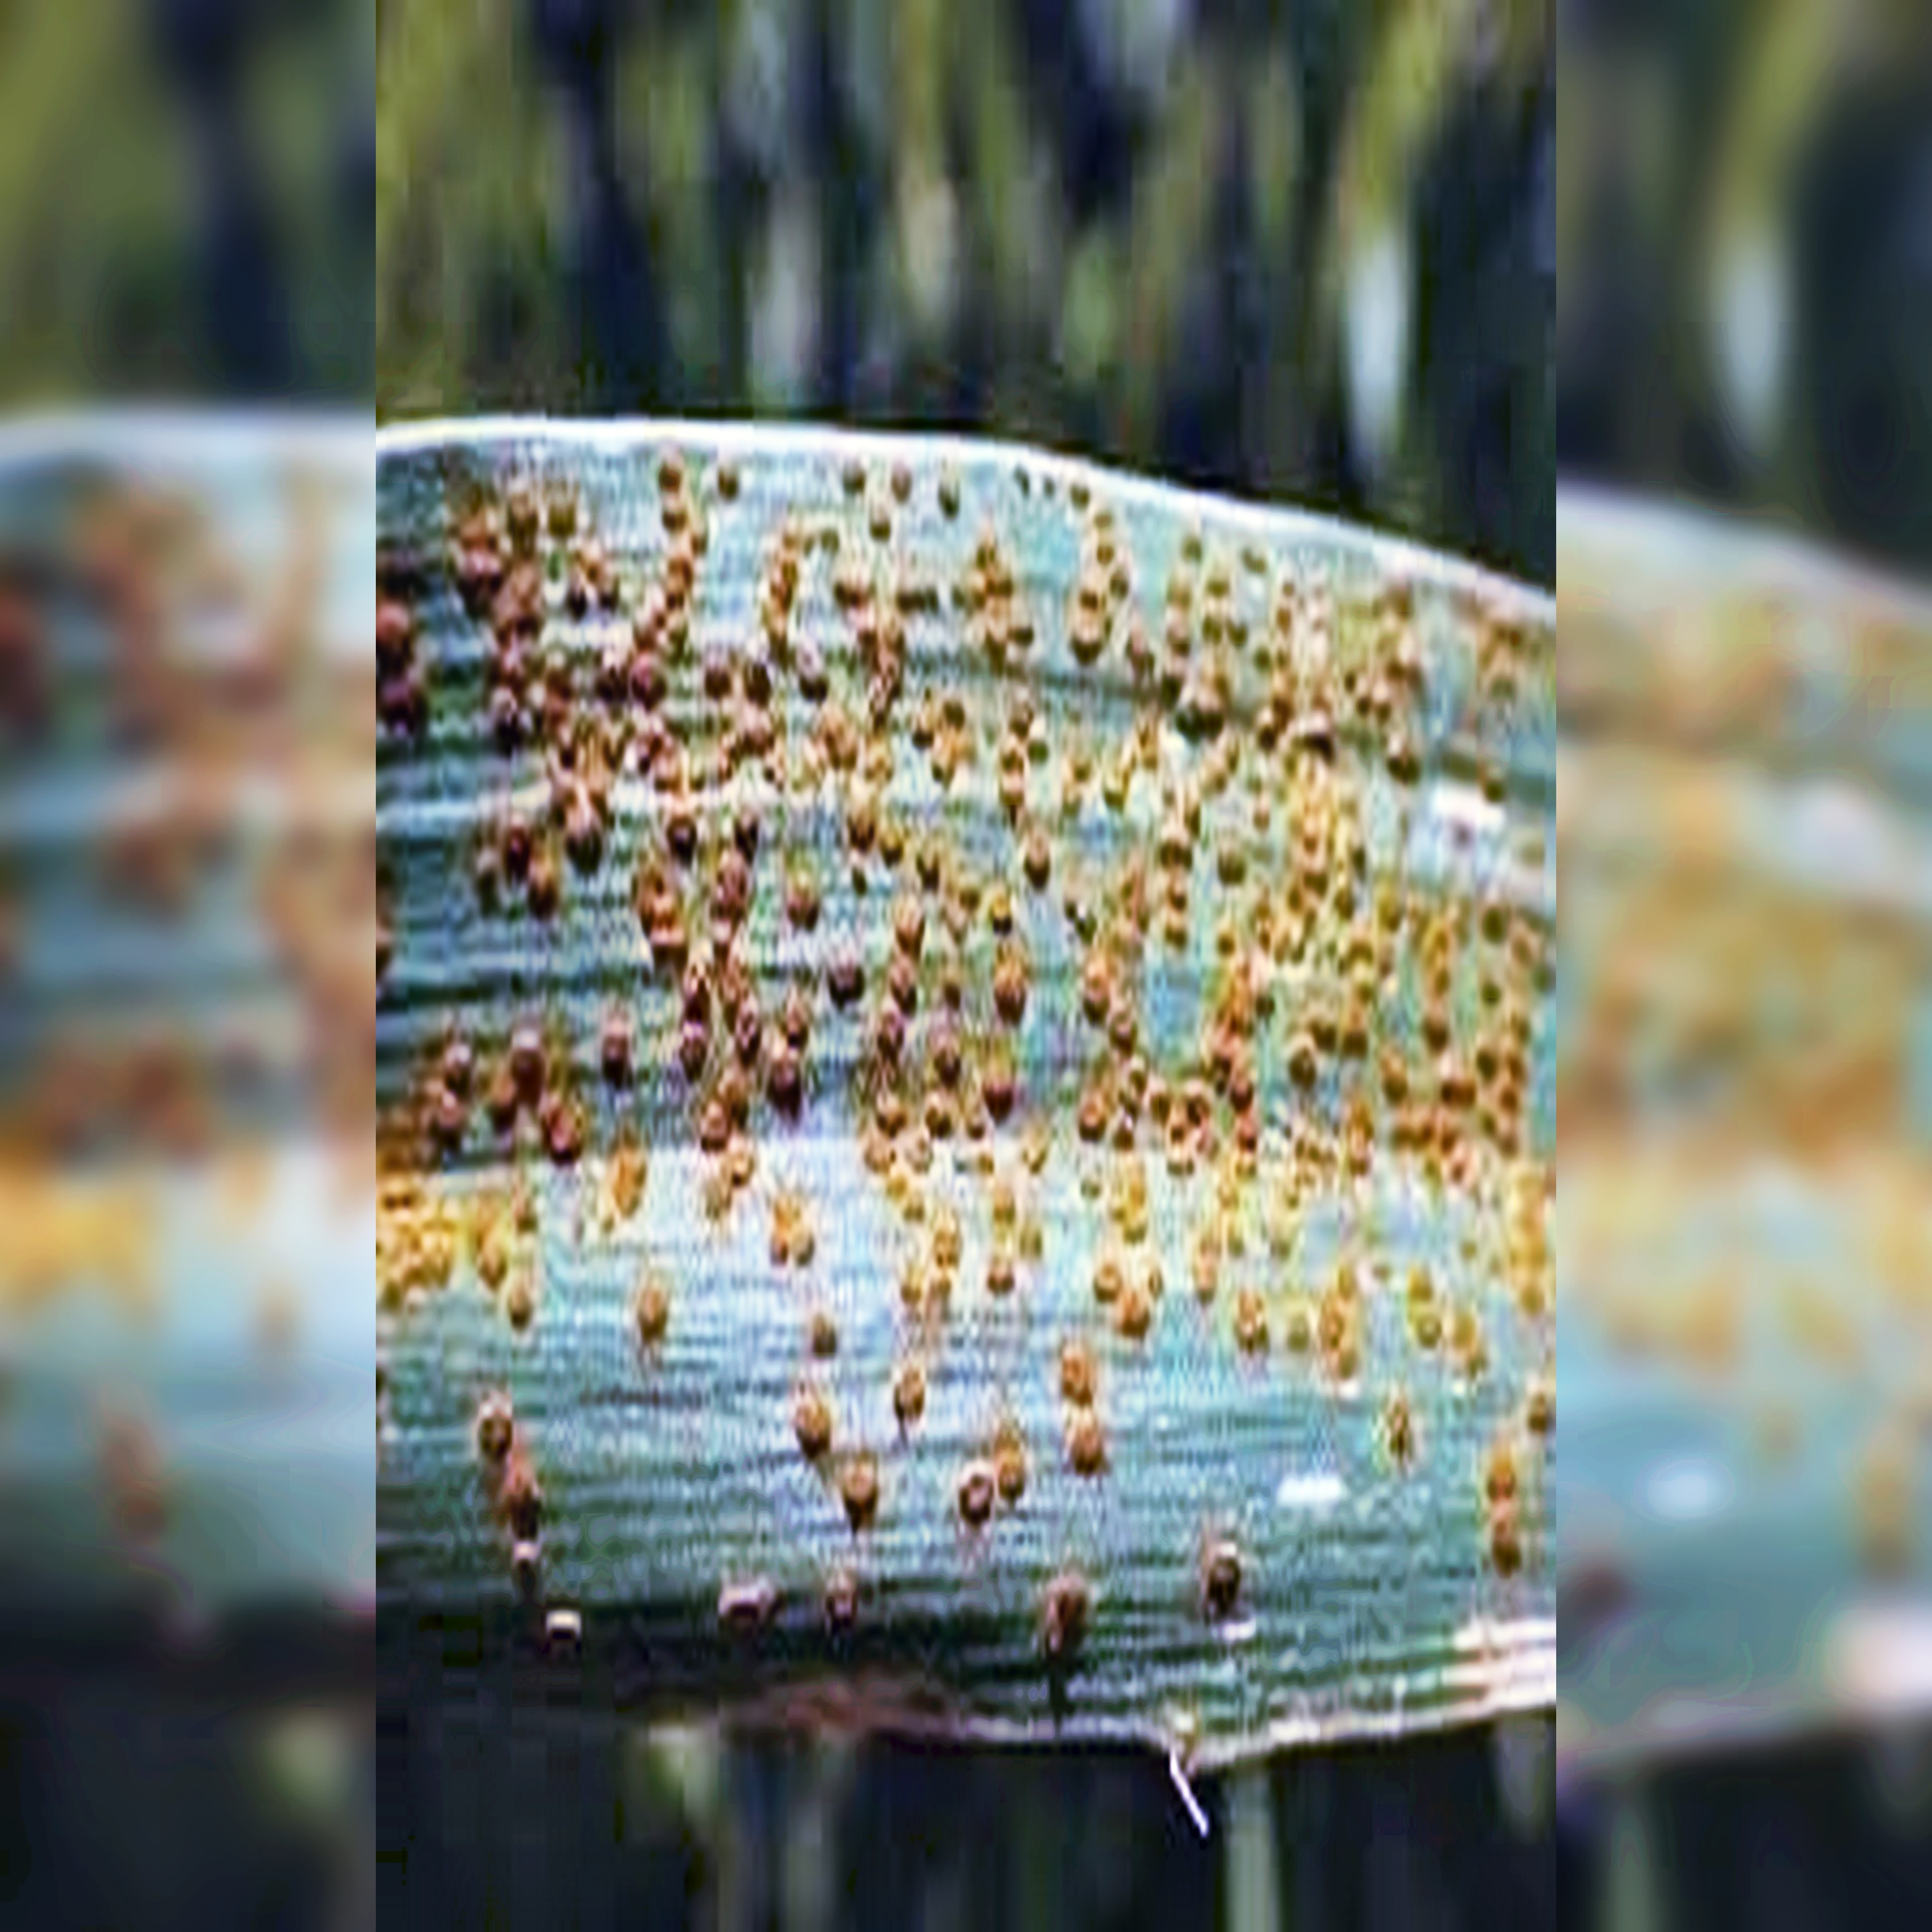Leaf Rust: (471, 400, 1525, 1750)
